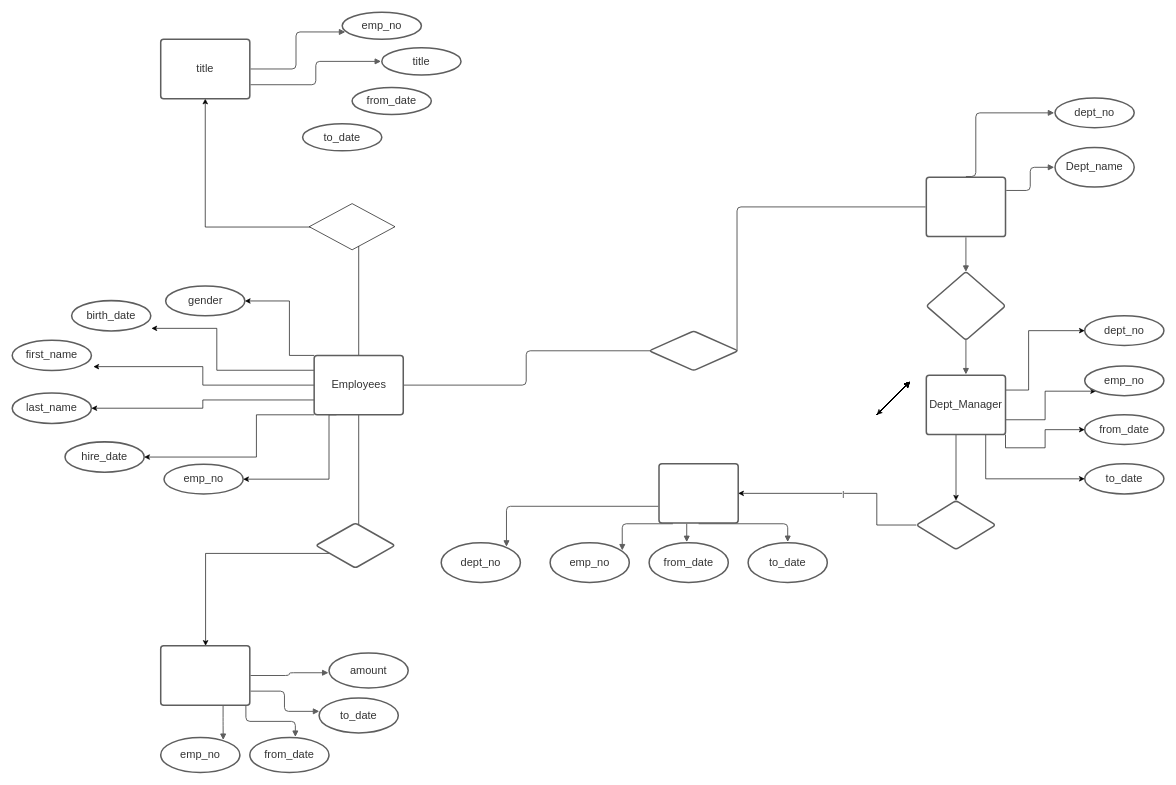
Image size: 1176x785. Some labels were removed from this diagram. The box of each missing label's shape, as (x1, y1, x2, y2) in pixels:
are managed by: (925, 271, 1006, 341)
Departments: (925, 176, 1006, 237)
Dept_emp: (658, 463, 739, 524)
have a: (309, 203, 395, 250)
leads a: (915, 500, 996, 550)
need a: (315, 522, 395, 568)
salary: (160, 645, 250, 706)
work in: (648, 330, 739, 371)
